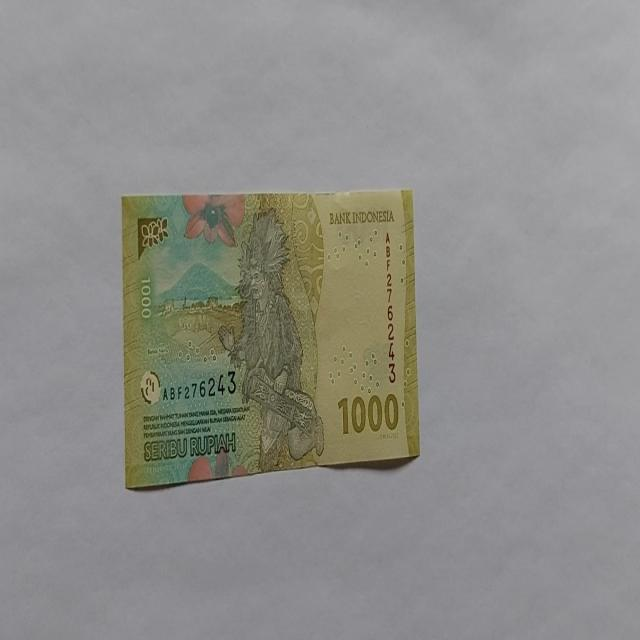seribu rupiah kertas: (122, 187, 420, 489), (218, 207, 324, 471)
